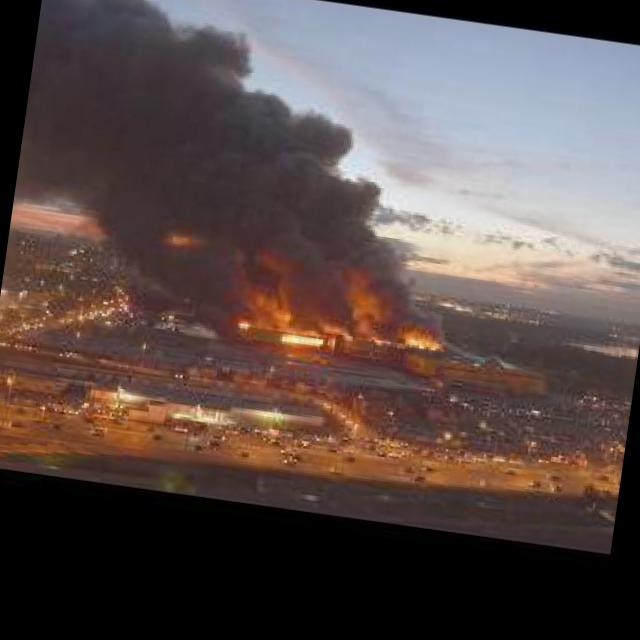fire: (372, 329, 442, 352), (282, 329, 331, 348), (238, 318, 254, 327)
smoke: (39, 6, 433, 354)
